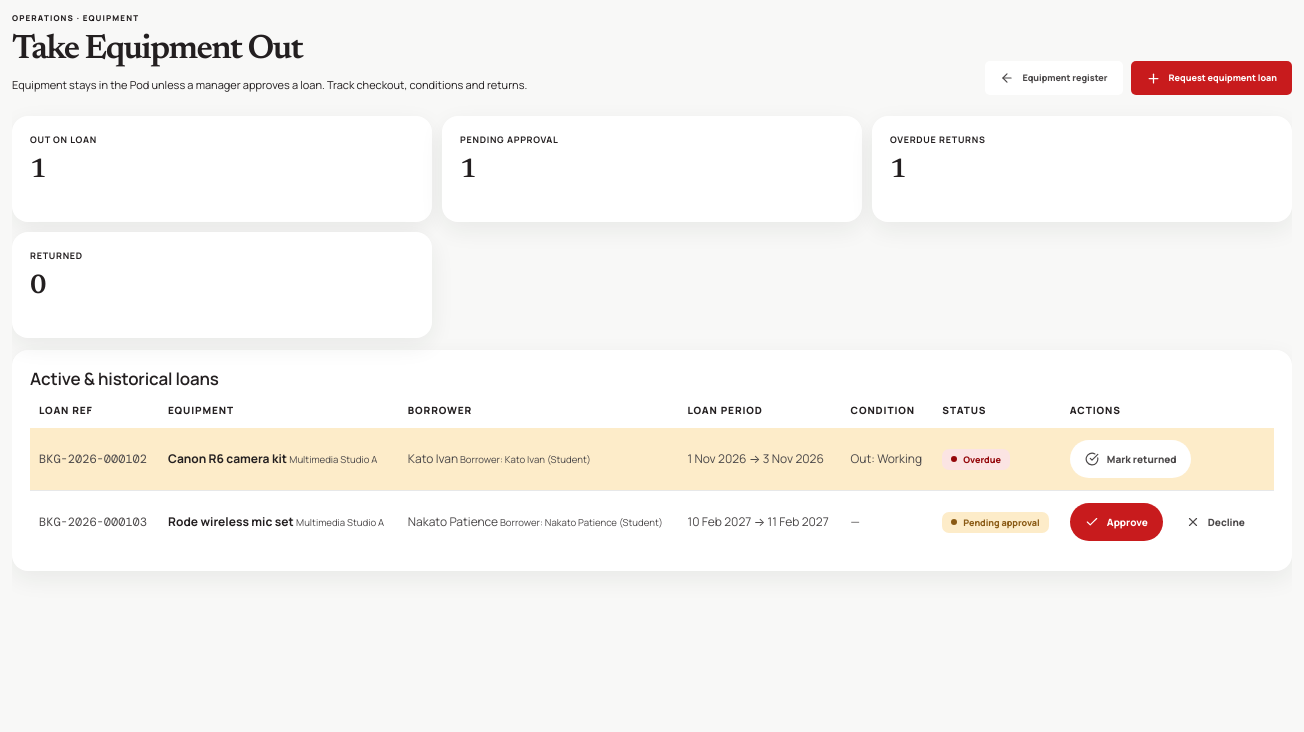
Test: EquipmentLendingPage › approves a pending loan, which takes the item out
What coordinates should you click on to do the following:
click the button "Approve"
I would click on:
 (1116, 522)
Its box is 1070,503 -> 1163,541.
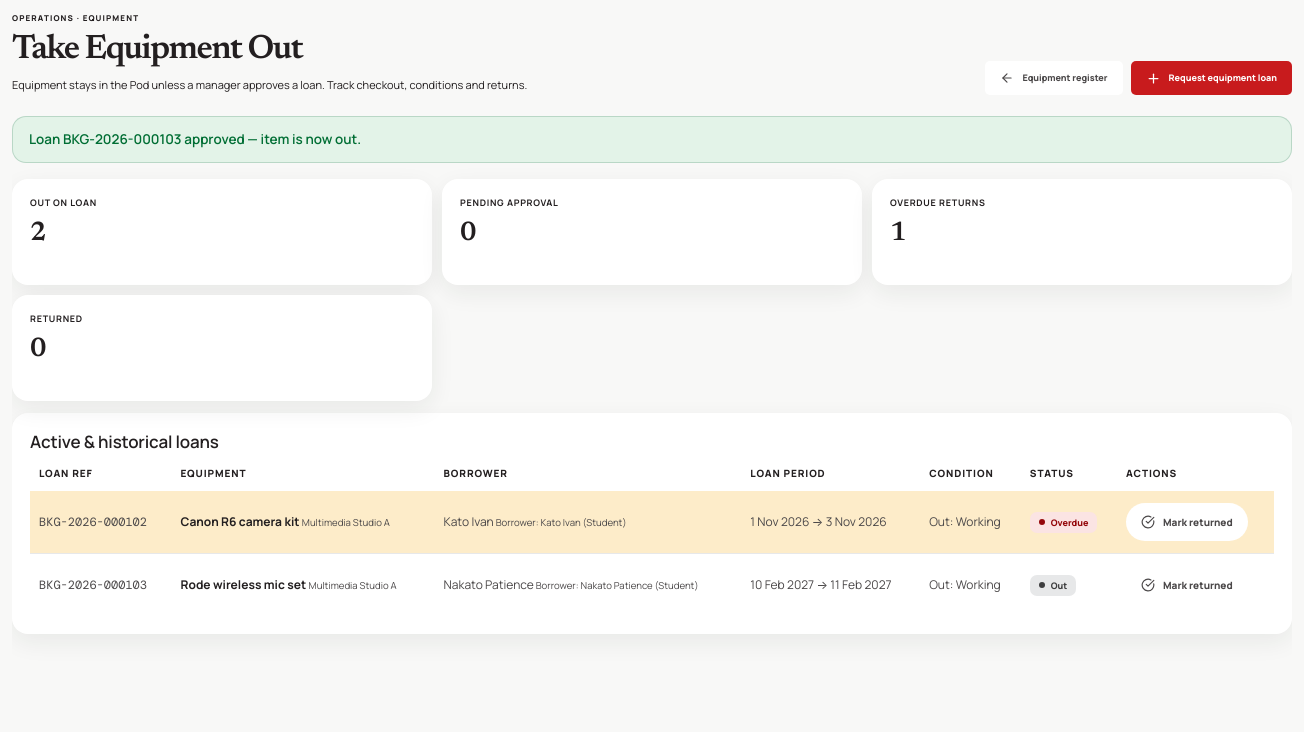
Expected: the text "Out" is shown, 1030,574 -> 1076,596
